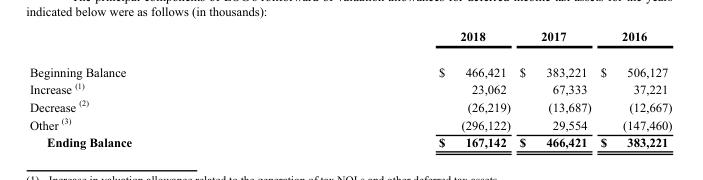table: (28, 28, 671, 148)
table column: (28, 28, 284, 148), (284, 28, 514, 148), (514, 28, 595, 148), (595, 28, 671, 148)
table column header: (28, 28, 671, 53)
table row: (28, 53, 671, 79), (28, 28, 671, 53), (28, 114, 671, 133), (28, 79, 671, 97), (28, 97, 671, 114), (28, 133, 671, 148)
